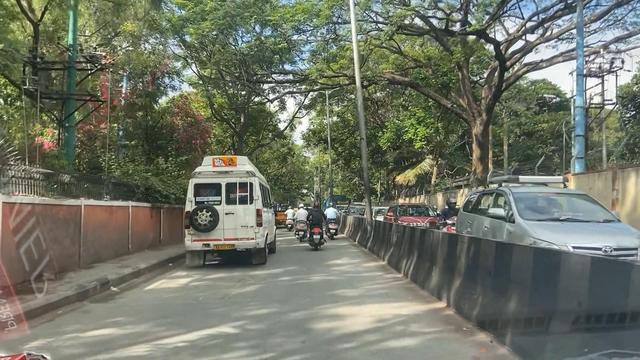HMV: (181, 148, 265, 276)
LMV: (303, 200, 326, 248), (325, 204, 346, 243)
